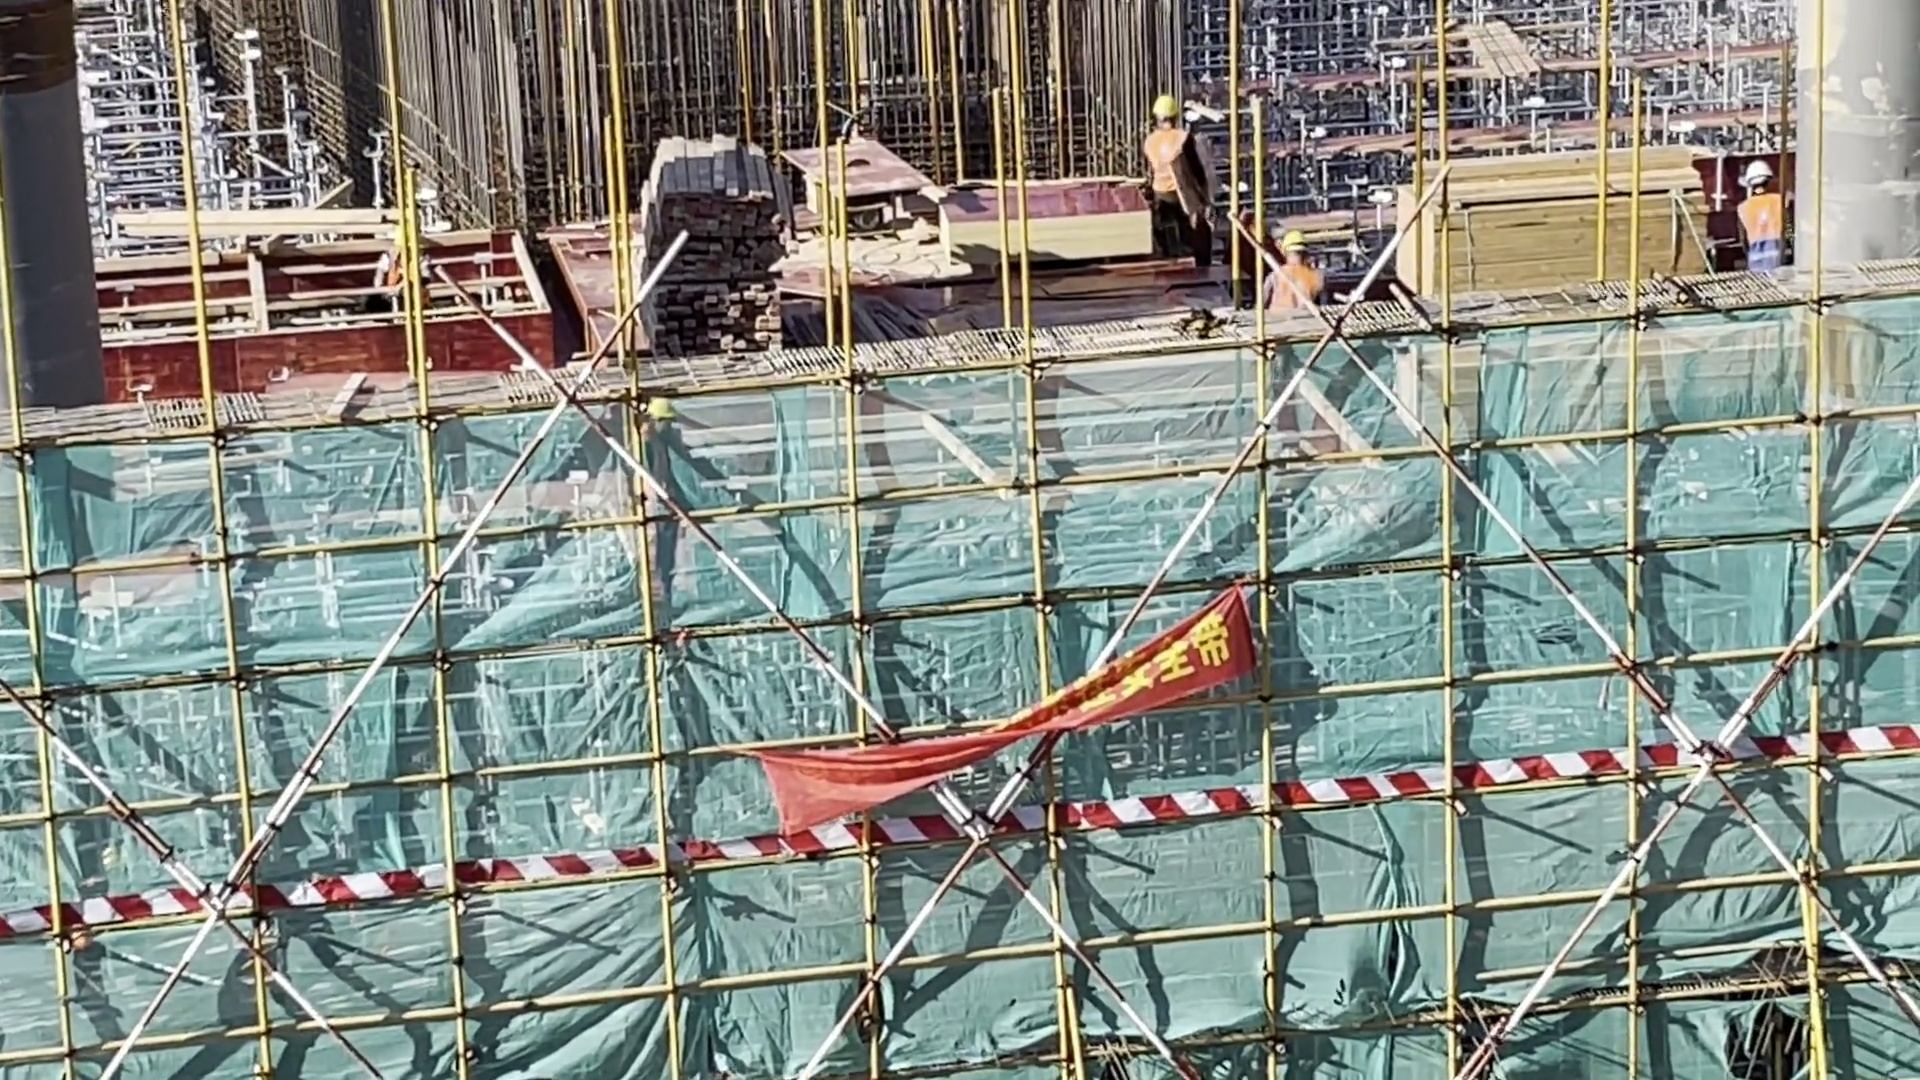helmet: (1148, 78, 1192, 127), (1273, 215, 1318, 261), (1738, 161, 1775, 191)
person: (1123, 85, 1210, 248), (1734, 161, 1796, 282), (1252, 226, 1337, 312)
slogan: (737, 587, 1294, 894)
vest: (1730, 182, 1792, 267), (1145, 126, 1196, 198), (1269, 261, 1325, 306)
wood: (1382, 135, 1717, 315), (629, 111, 796, 367)
